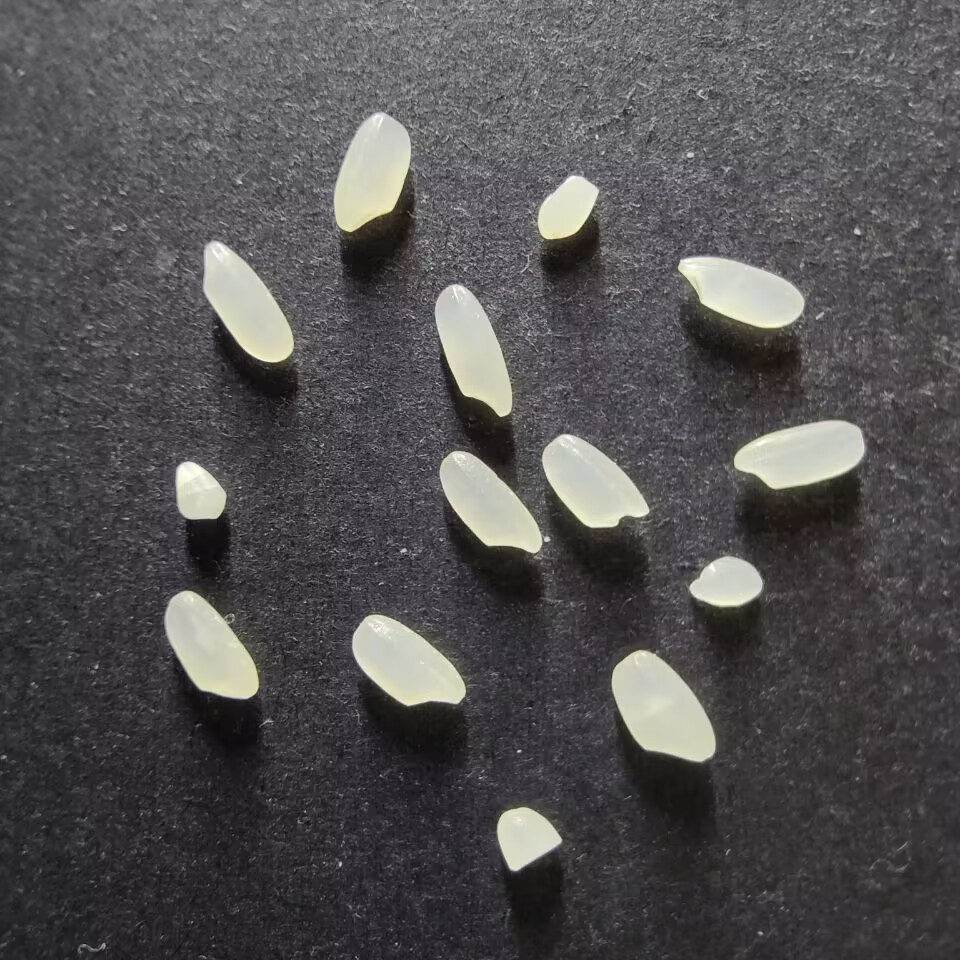broken: (495, 805, 562, 872), (537, 174, 599, 239), (688, 555, 764, 607), (175, 460, 226, 520)
rice: (610, 649, 715, 763), (201, 240, 294, 362), (438, 450, 544, 554), (351, 613, 466, 706), (434, 283, 513, 417), (163, 590, 259, 700), (541, 433, 650, 528), (332, 111, 411, 232), (732, 419, 865, 489), (677, 256, 804, 328)
